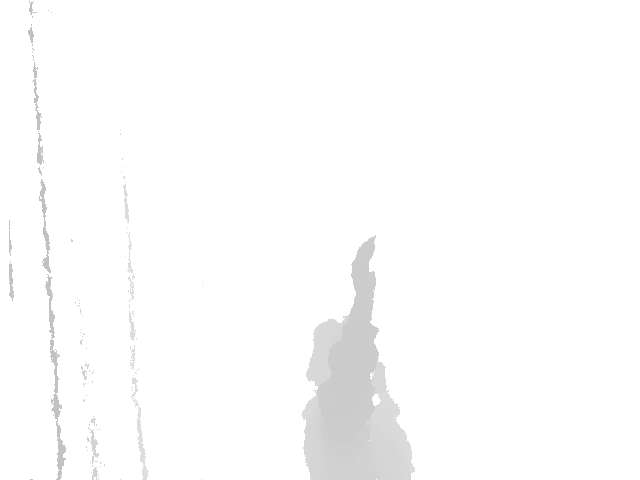hand: (348, 233, 382, 296)
head: (306, 320, 384, 402)
person: (301, 234, 413, 480)
